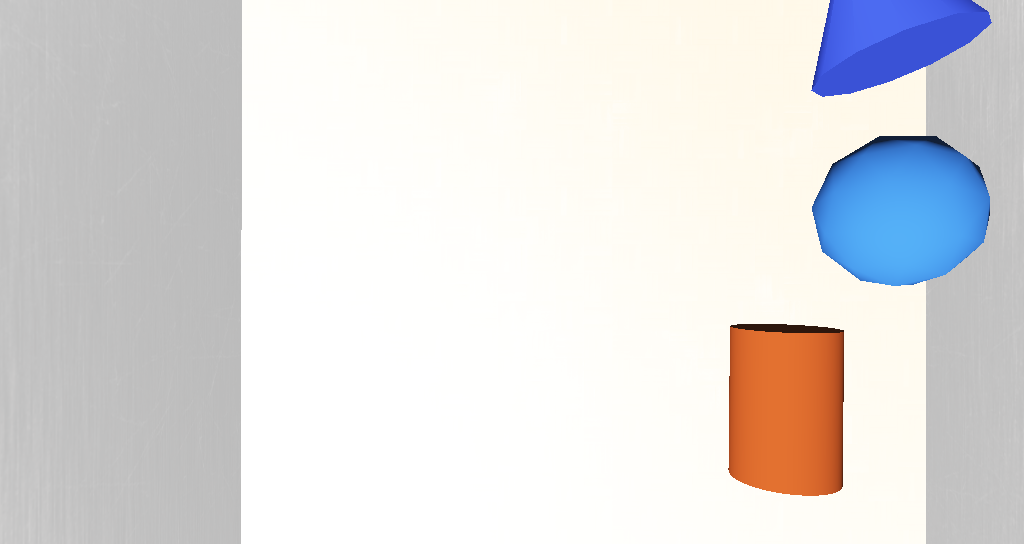cone: (569, 282, 616, 329)
cylinder: (583, 150, 670, 222)
sphere: (603, 231, 664, 274)
